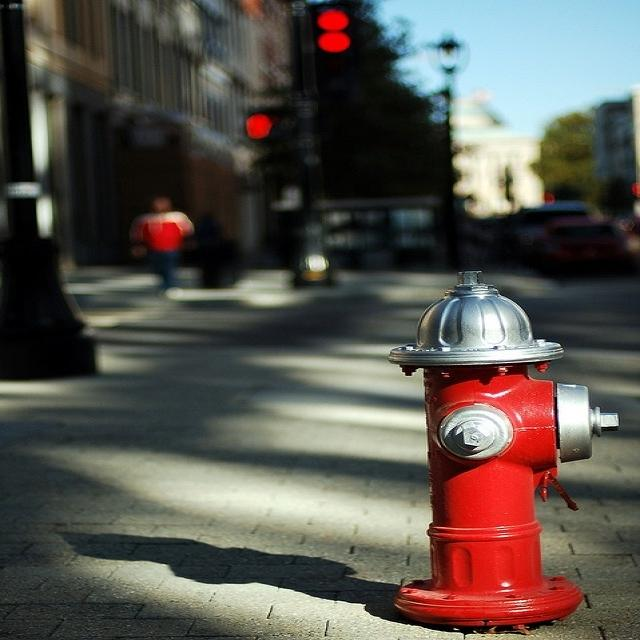fire_hydrant: (351, 262, 611, 624)
